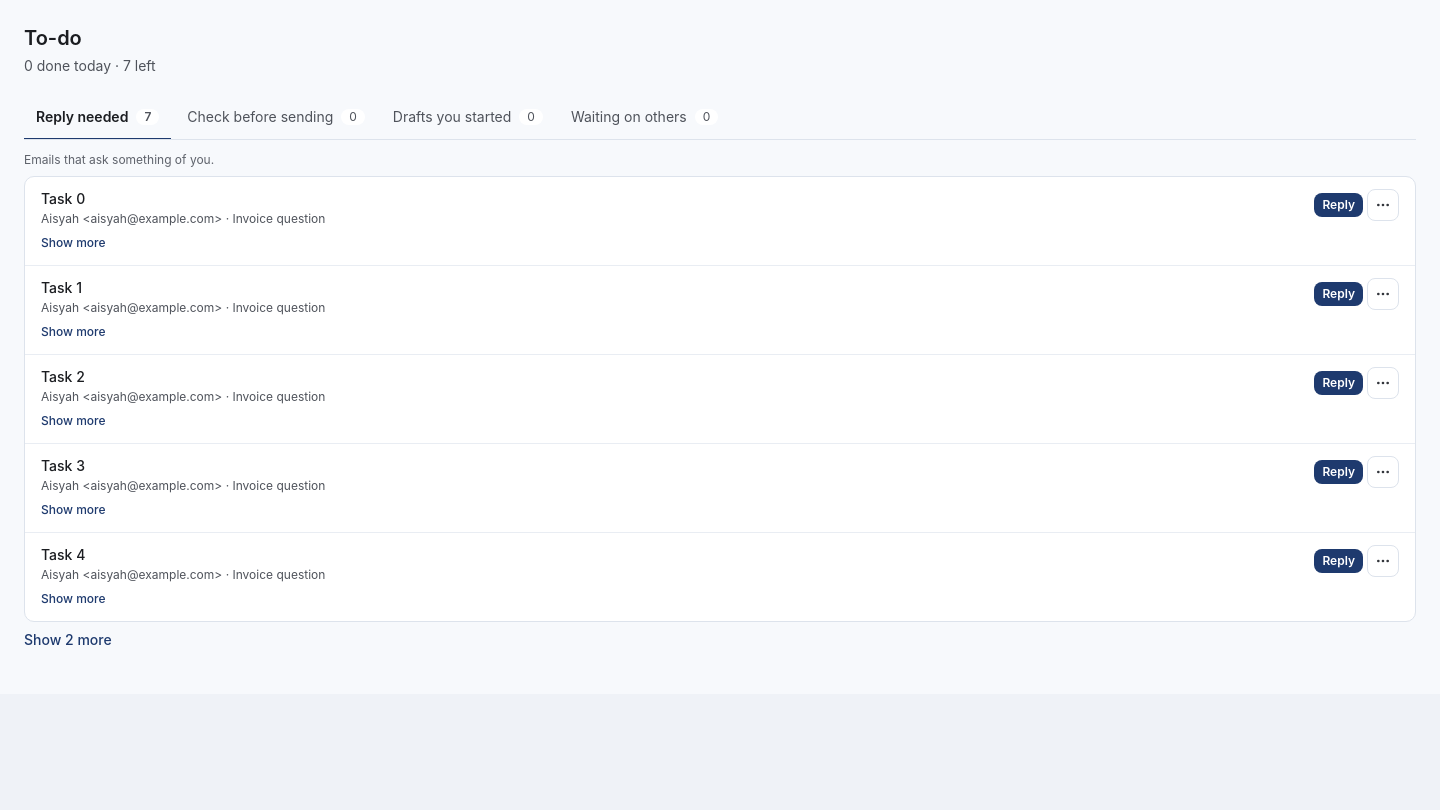
five rows show first, and the rest are one click away
expect the text "Task 0" is shown: met, box [41, 189, 85, 209]
expect the text "Task 6" is not shown: met
Click the button "Show 2 more": (68, 640) [24, 630, 112, 650]
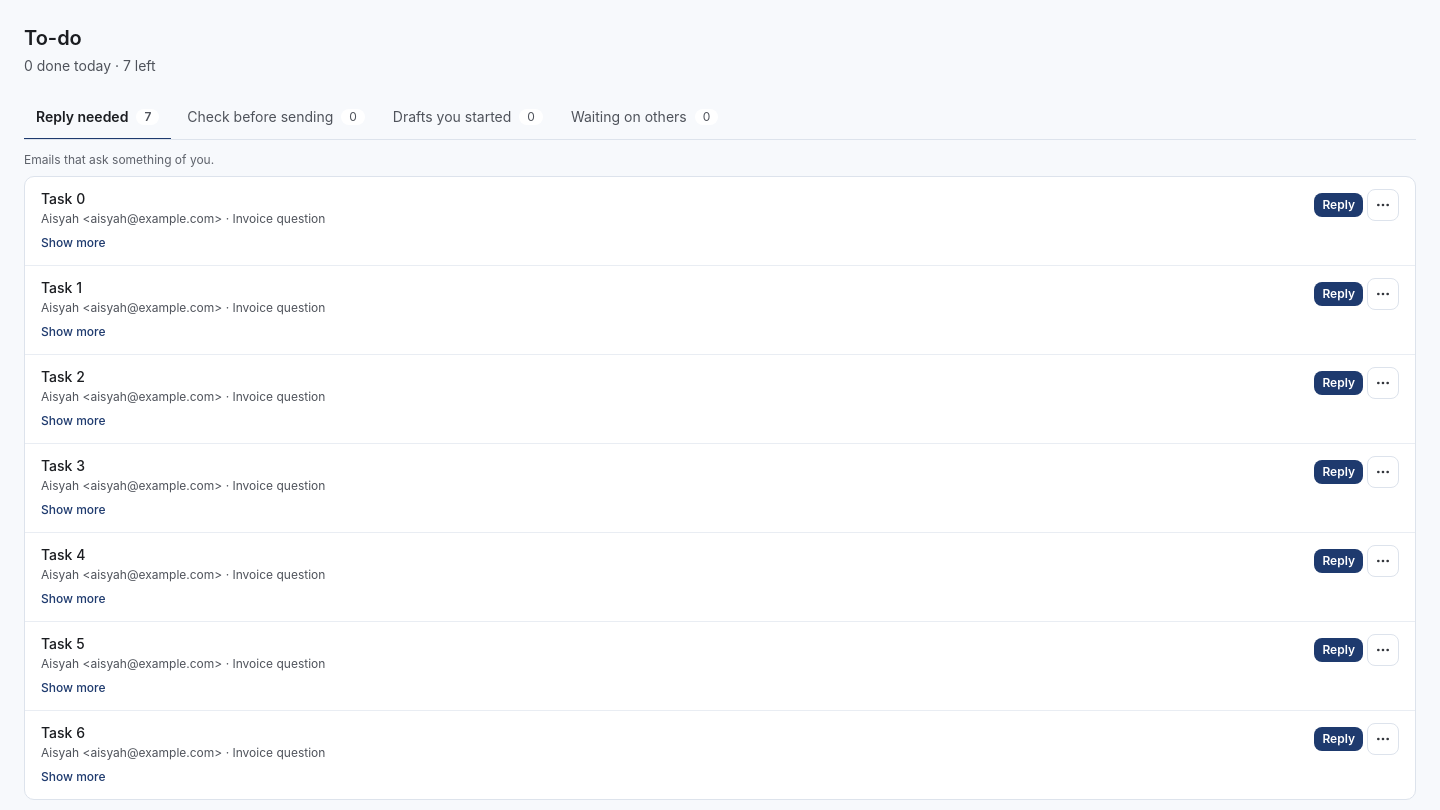
expect the text "Task 6" is shown: met, box [41, 723, 85, 743]
